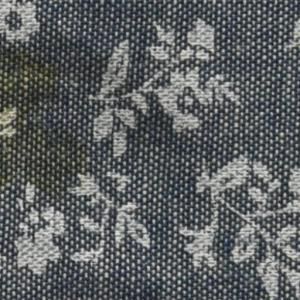Oil Stain: (1, 46, 94, 209)
